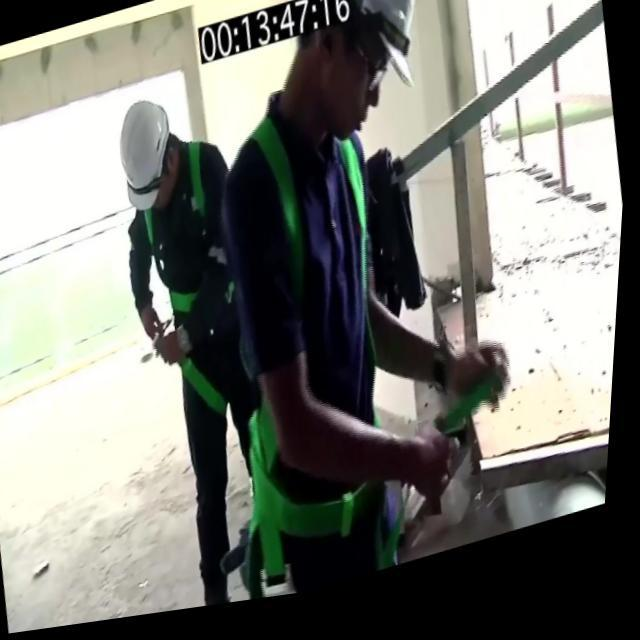belt: (202, 95, 430, 606), (132, 140, 248, 446)
